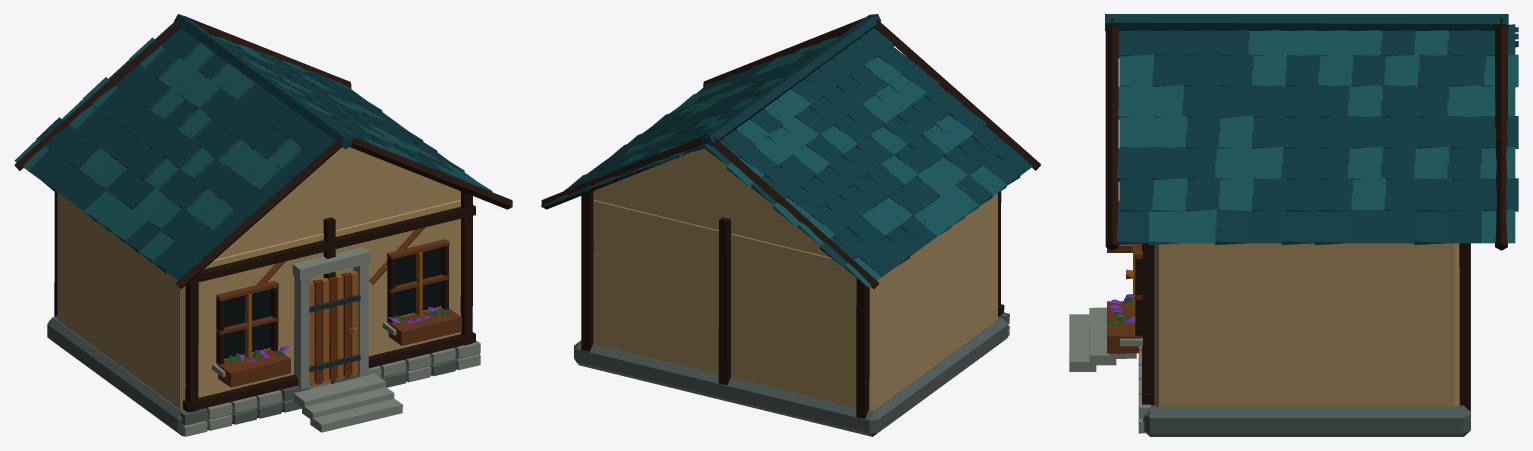
The model's file is Casa_do_herbalista_LOD1.fbx.
3 renders of one model, left to right at view 1: azimuth 30°, elevation 25°; view 2: azimuth 150°, elevation 25°; view 3: azimuth 270°, elevation 25°, orthographic. The views are drawn at different scales.
Parts seen in each view (by area): view 1: Casa_do_herbalista_LOD1; view 2: Casa_do_herbalista_LOD1; view 3: Casa_do_herbalista_LOD1.
Part boxes in pixels (x1,y1,x2,y2): Casa_do_herbalista_LOD1: [14, 14, 512, 436]; Casa_do_herbalista_LOD1: [541, 14, 1040, 436]; Casa_do_herbalista_LOD1: [1069, 14, 1518, 436].
Bounding box in the file's own units: 649 × 514 × 624.
Materials: 1 (1 with a texture image).
